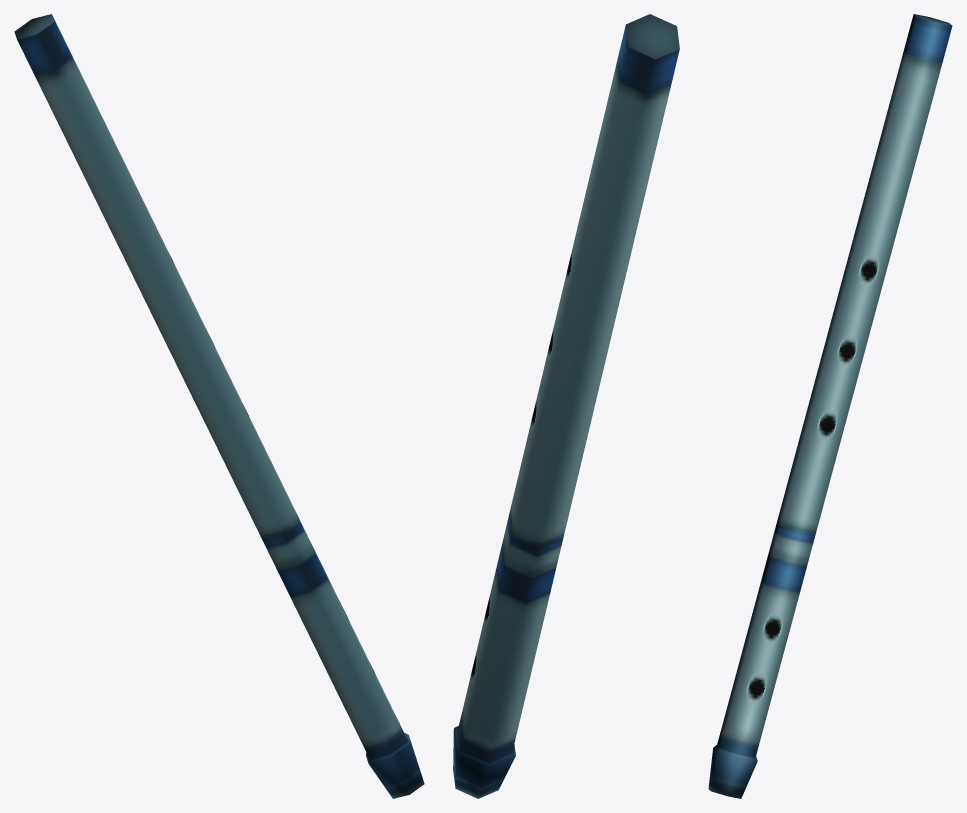
File: Wpn_DiZi.FBX
The picture shows the model from 3 angles, left to right: view 1: azimuth 30°, elevation 25°; view 2: azimuth 150°, elevation 25°; view 3: azimuth 270°, elevation 25°; orthographic projection. The views are drawn at different scales.
Parts seen in each view (by area): view 1: Wpn_DiZi; view 2: Wpn_DiZi; view 3: Wpn_DiZi.
Part boxes in pixels (x1=…): Wpn_DiZi: x1=14, y1=14, x2=424, y2=798; Wpn_DiZi: x1=453, y1=14, x2=679, y2=798; Wpn_DiZi: x1=708, y1=14, x2=952, y2=798.
Size of the model in its own units: 0.4724 by 1.16 by 0.3806.
